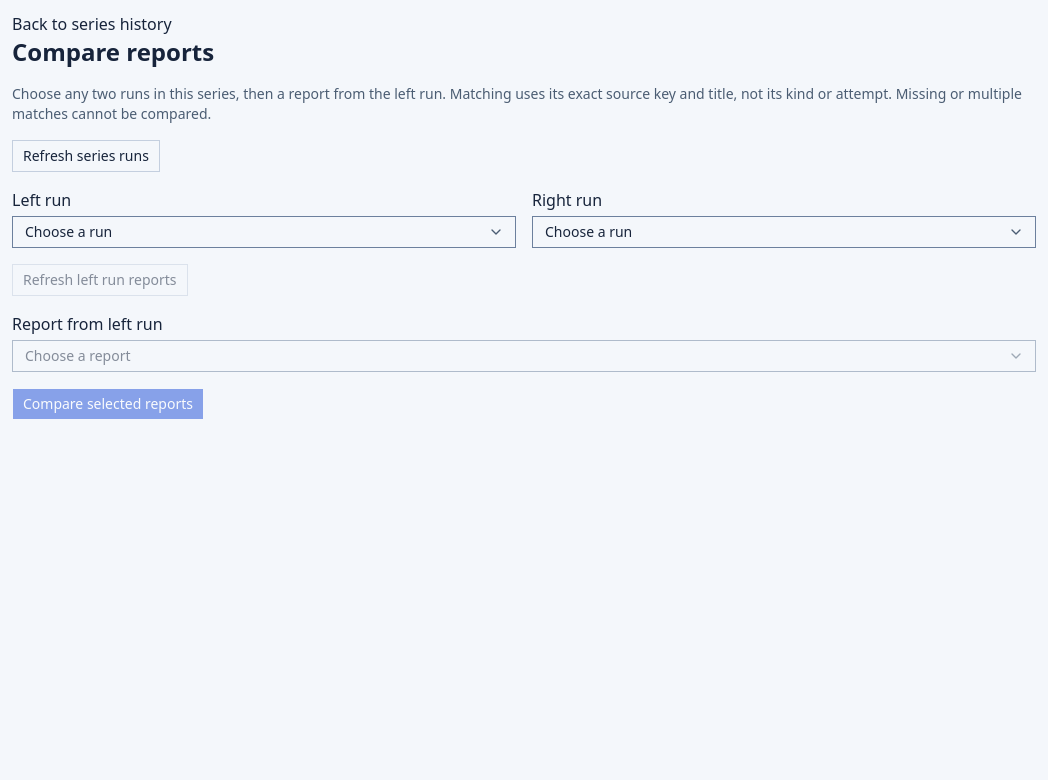
Scenario: series report comparison › hides both stale sides after comparison refresh fails HTTP 403
Select "019ed132-2f44-7000-8000-000000000010 | 16 Oct 2026, 07:00:00.000 UTC | Succeeded" in the dropdown labelled "Left run" at (264, 232), box [12,216,516,248]
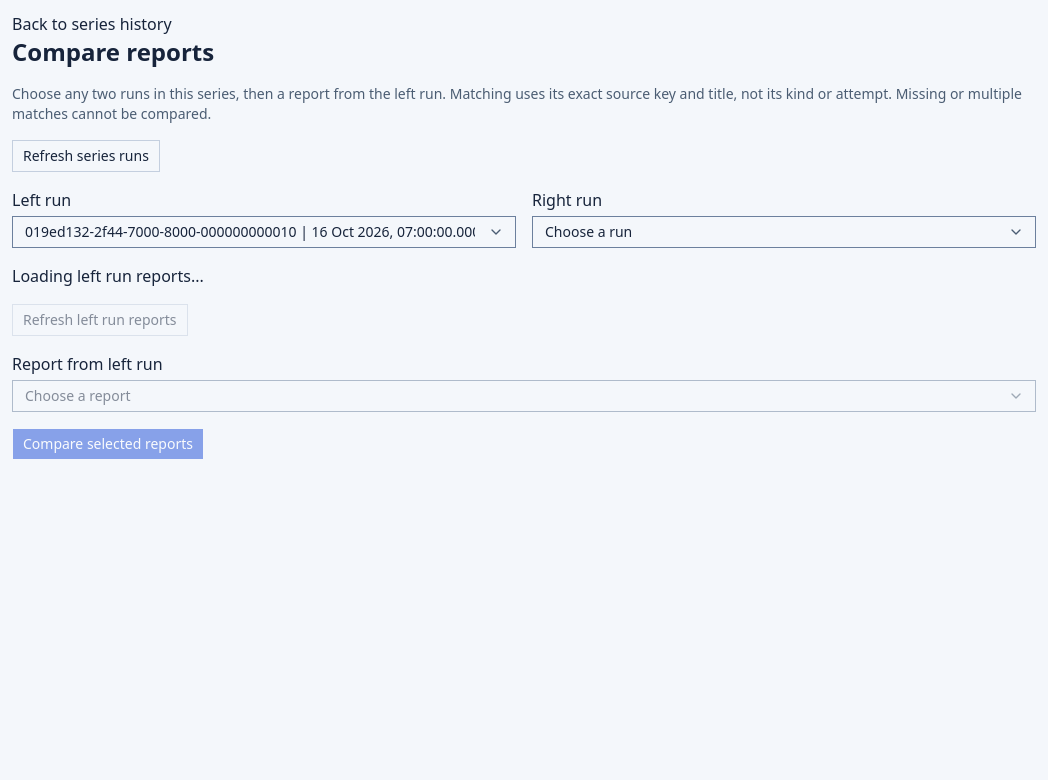
Select "019ed132-2f44-7000-8000-000000000011 | 16 Oct 2026, 07:00:00.000 UTC | Succeeded" in the dropdown labelled "Right run" at (784, 232), box [532,216,1036,248]
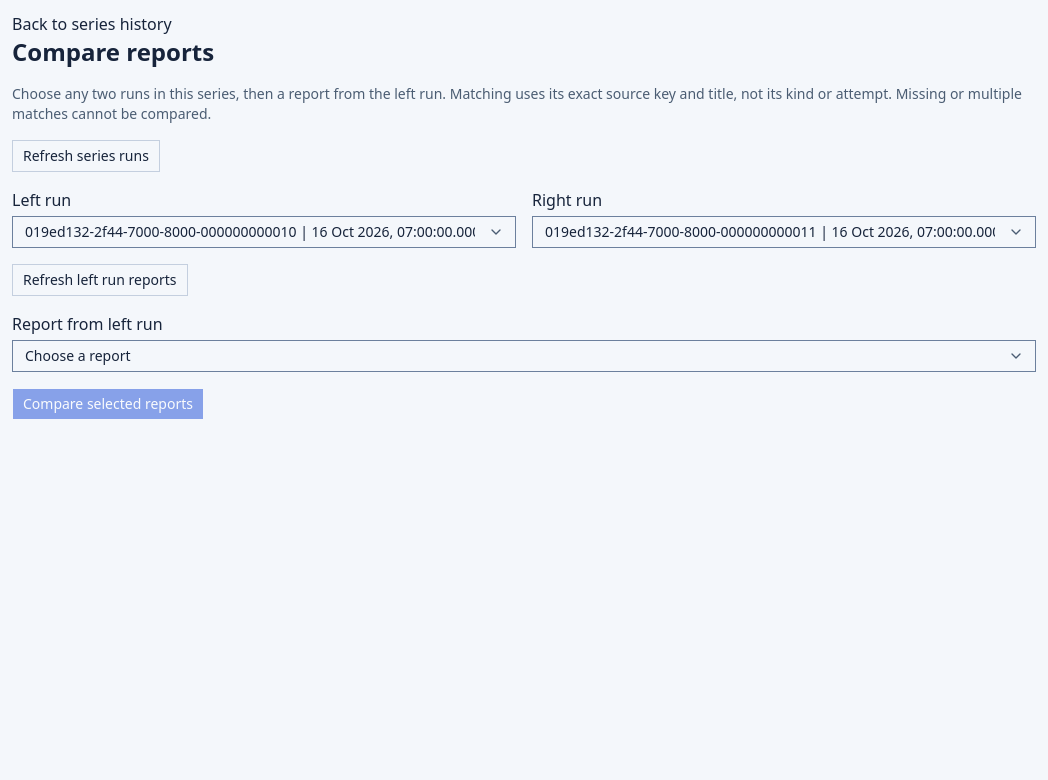
Select "019ed132-2f44-7000-8000-000000000020" in the dropdown labelled "Report from left run" at (524, 356), box [12,340,1036,372]
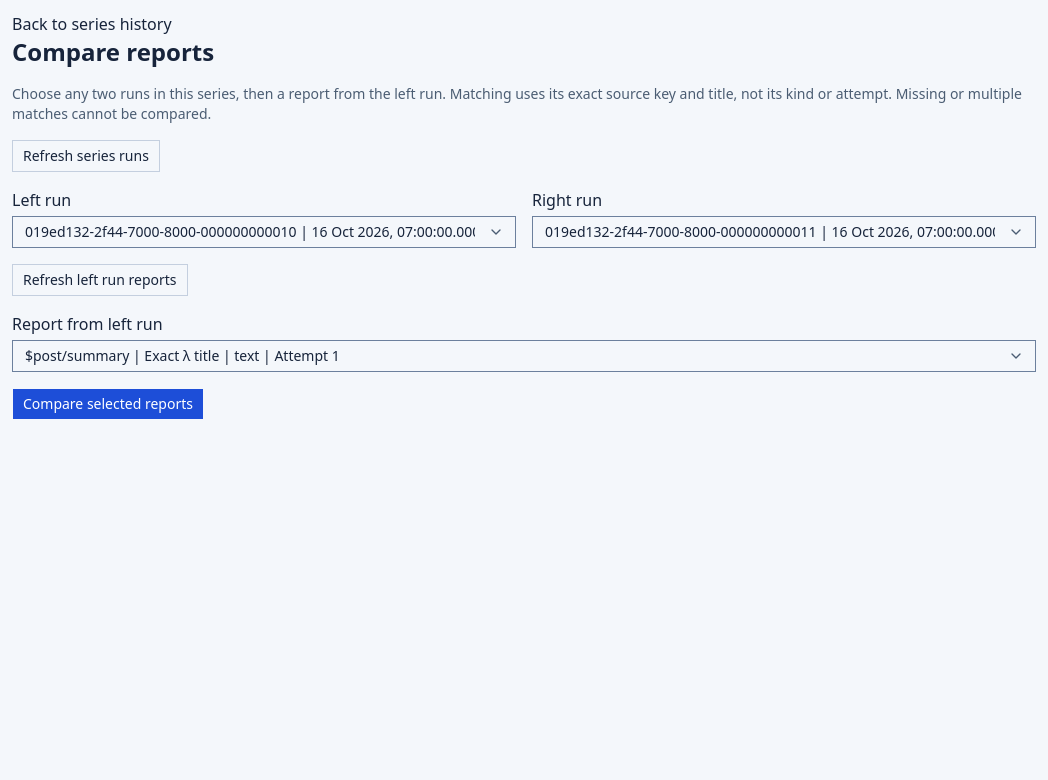
Click the button "Compare selected reports" at (108, 404), box [12,388,204,420]
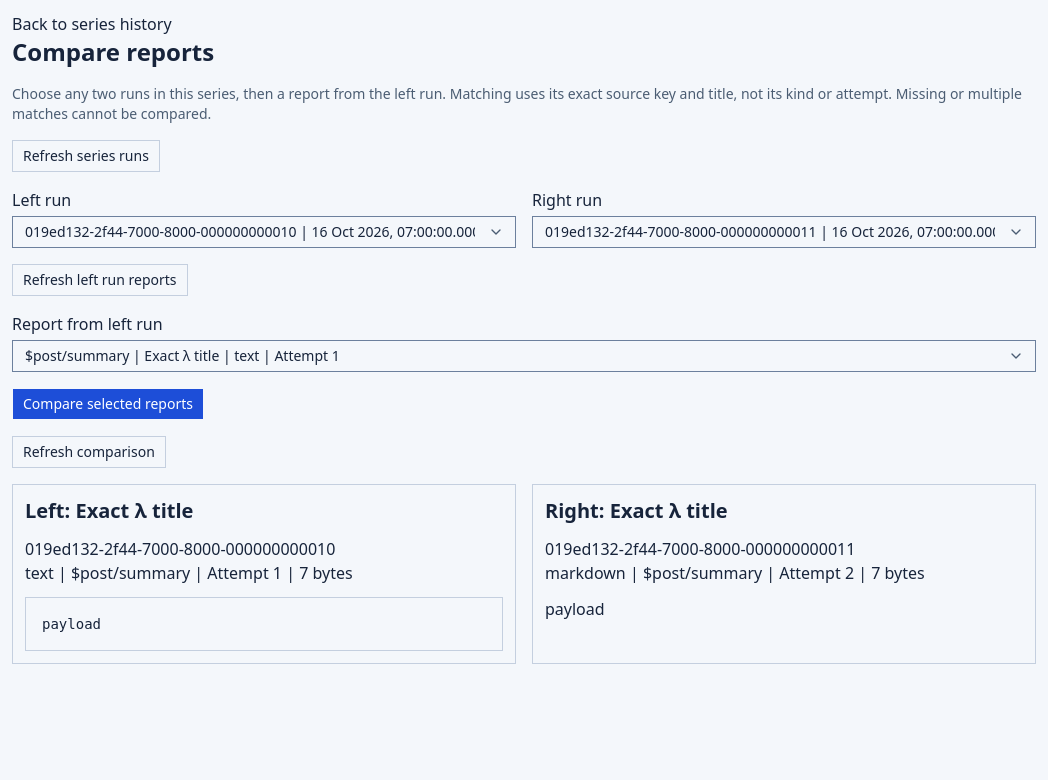
Check: the element named "Left report" is shown, box [12,484,516,664]
Click the button "Refresh comparison" at (89, 452), box [12,436,166,468]
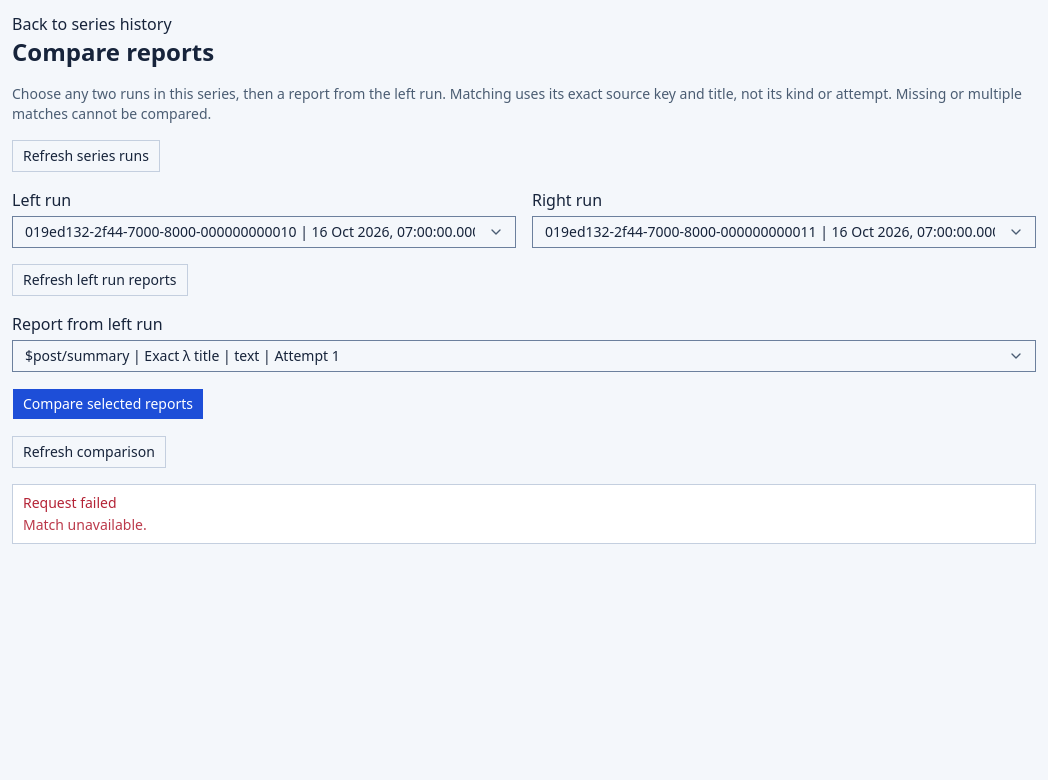
Check: the button "Refresh comparison" is enabled, box [12,436,166,468]
Check: the message shows "Match unavailable.", box [23,515,147,534]
